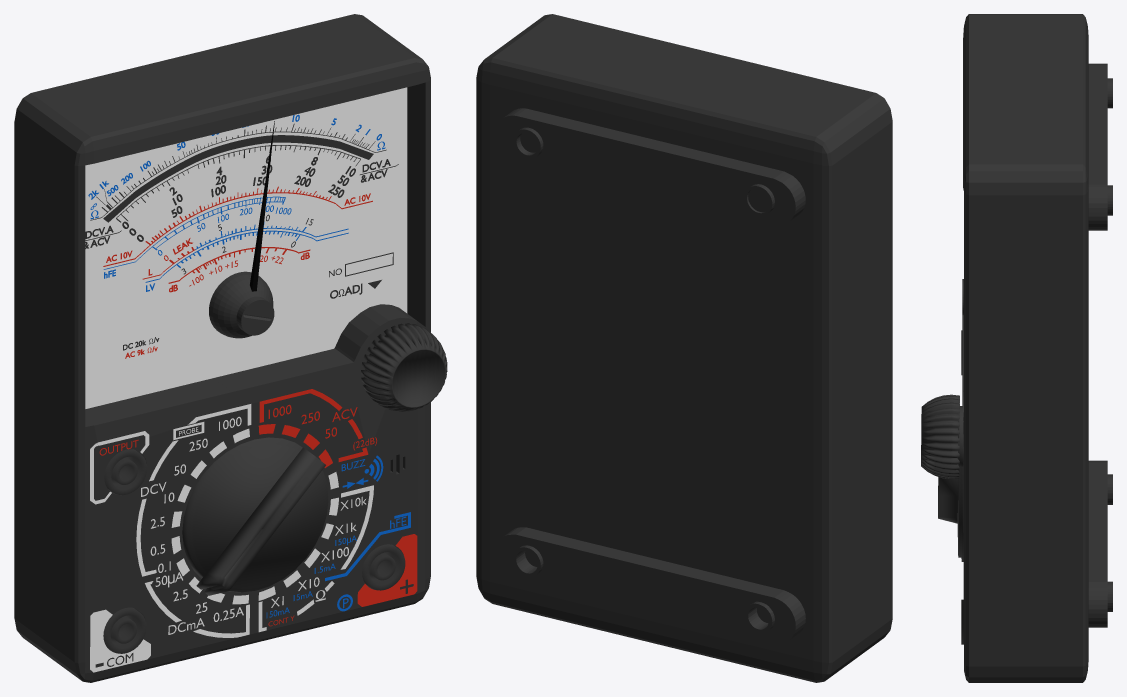
The model's file is asset.glb.
3 renders of one model, left to right at view 1: azimuth 30°, elevation 25°; view 2: azimuth 150°, elevation 25°; view 3: azimuth 270°, elevation 25°, orthographic. The views are drawn at different scales.
Parts seen in each view (by area): view 1: mm1_0, mm1skala_2, pemutar_3, pemutar2_4, jarum_5; view 2: mm1_0; view 3: mm1_0, pemutar2_4, pemutar_3.
Boxes of the visible parts, x1,y1,x2,y2 form: mm1_0: (14,14,430,682); mm1skala_2: (85,87,407,408); pemutar_3: (182,437,328,595); pemutar2_4: (361,323,447,411); jarum_5: (209,121,274,338); mm1_0: (476,14,892,682); mm1_0: (961,14,1112,682); pemutar2_4: (921,394,963,478); pemutar_3: (938,466,963,561).
Size of the model in its own units: 1.57 by 2.3 by 0.771.
